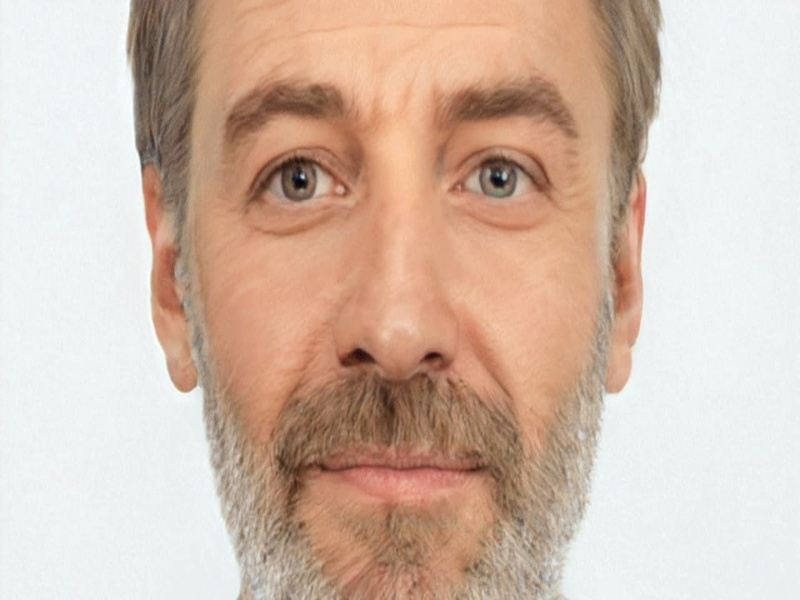face: (198, 15, 601, 538)
